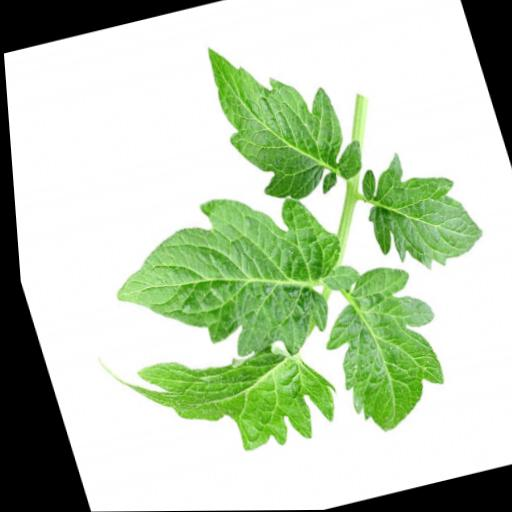Healthy: (86, 172, 365, 390), (106, 323, 343, 480), (288, 235, 459, 443), (197, 18, 369, 213), (342, 132, 495, 283)
